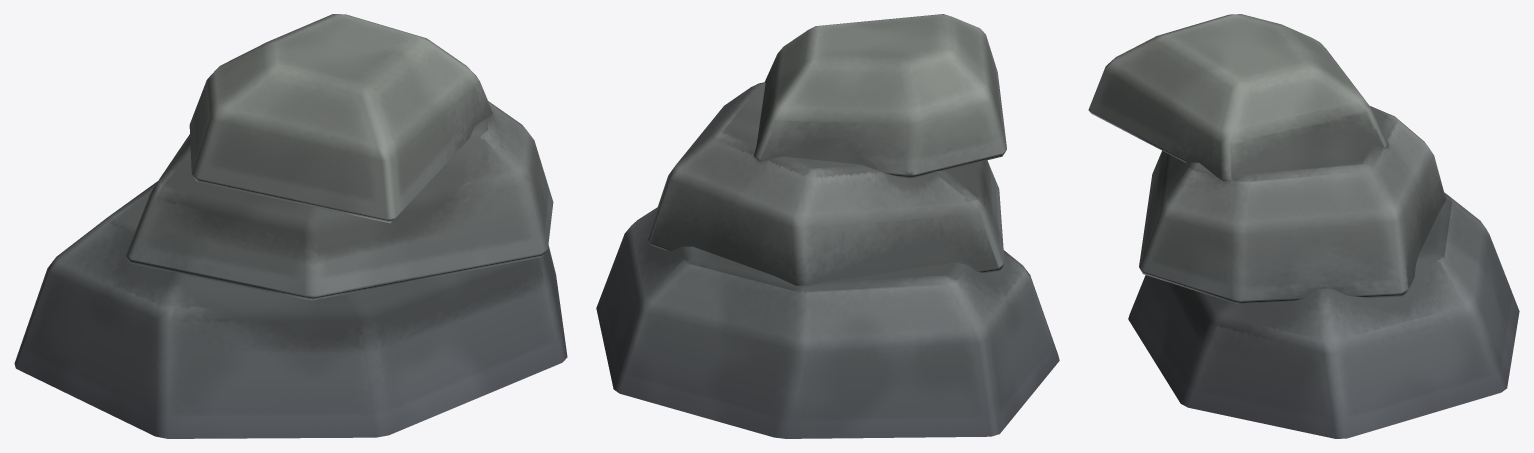
The model's file is stack_3.glb.
3 views of the same model, side by side, from view 1: azimuth 30°, elevation 25°; view 2: azimuth 150°, elevation 25°; view 3: azimuth 270°, elevation 25° (orthographic). The views are drawn at different scales.
Parts seen in each view (by area): view 1: stack_3; view 2: stack_3; view 3: stack_3.
Boxes of the visible parts, <box> form: stack_3: <box>14,14,567,438</box>; stack_3: <box>596,14,1059,438</box>; stack_3: <box>1088,14,1519,438</box>.
Size of the model in its own units: 0.5 by 0.32 by 0.44.
1 material, 1 textured.
